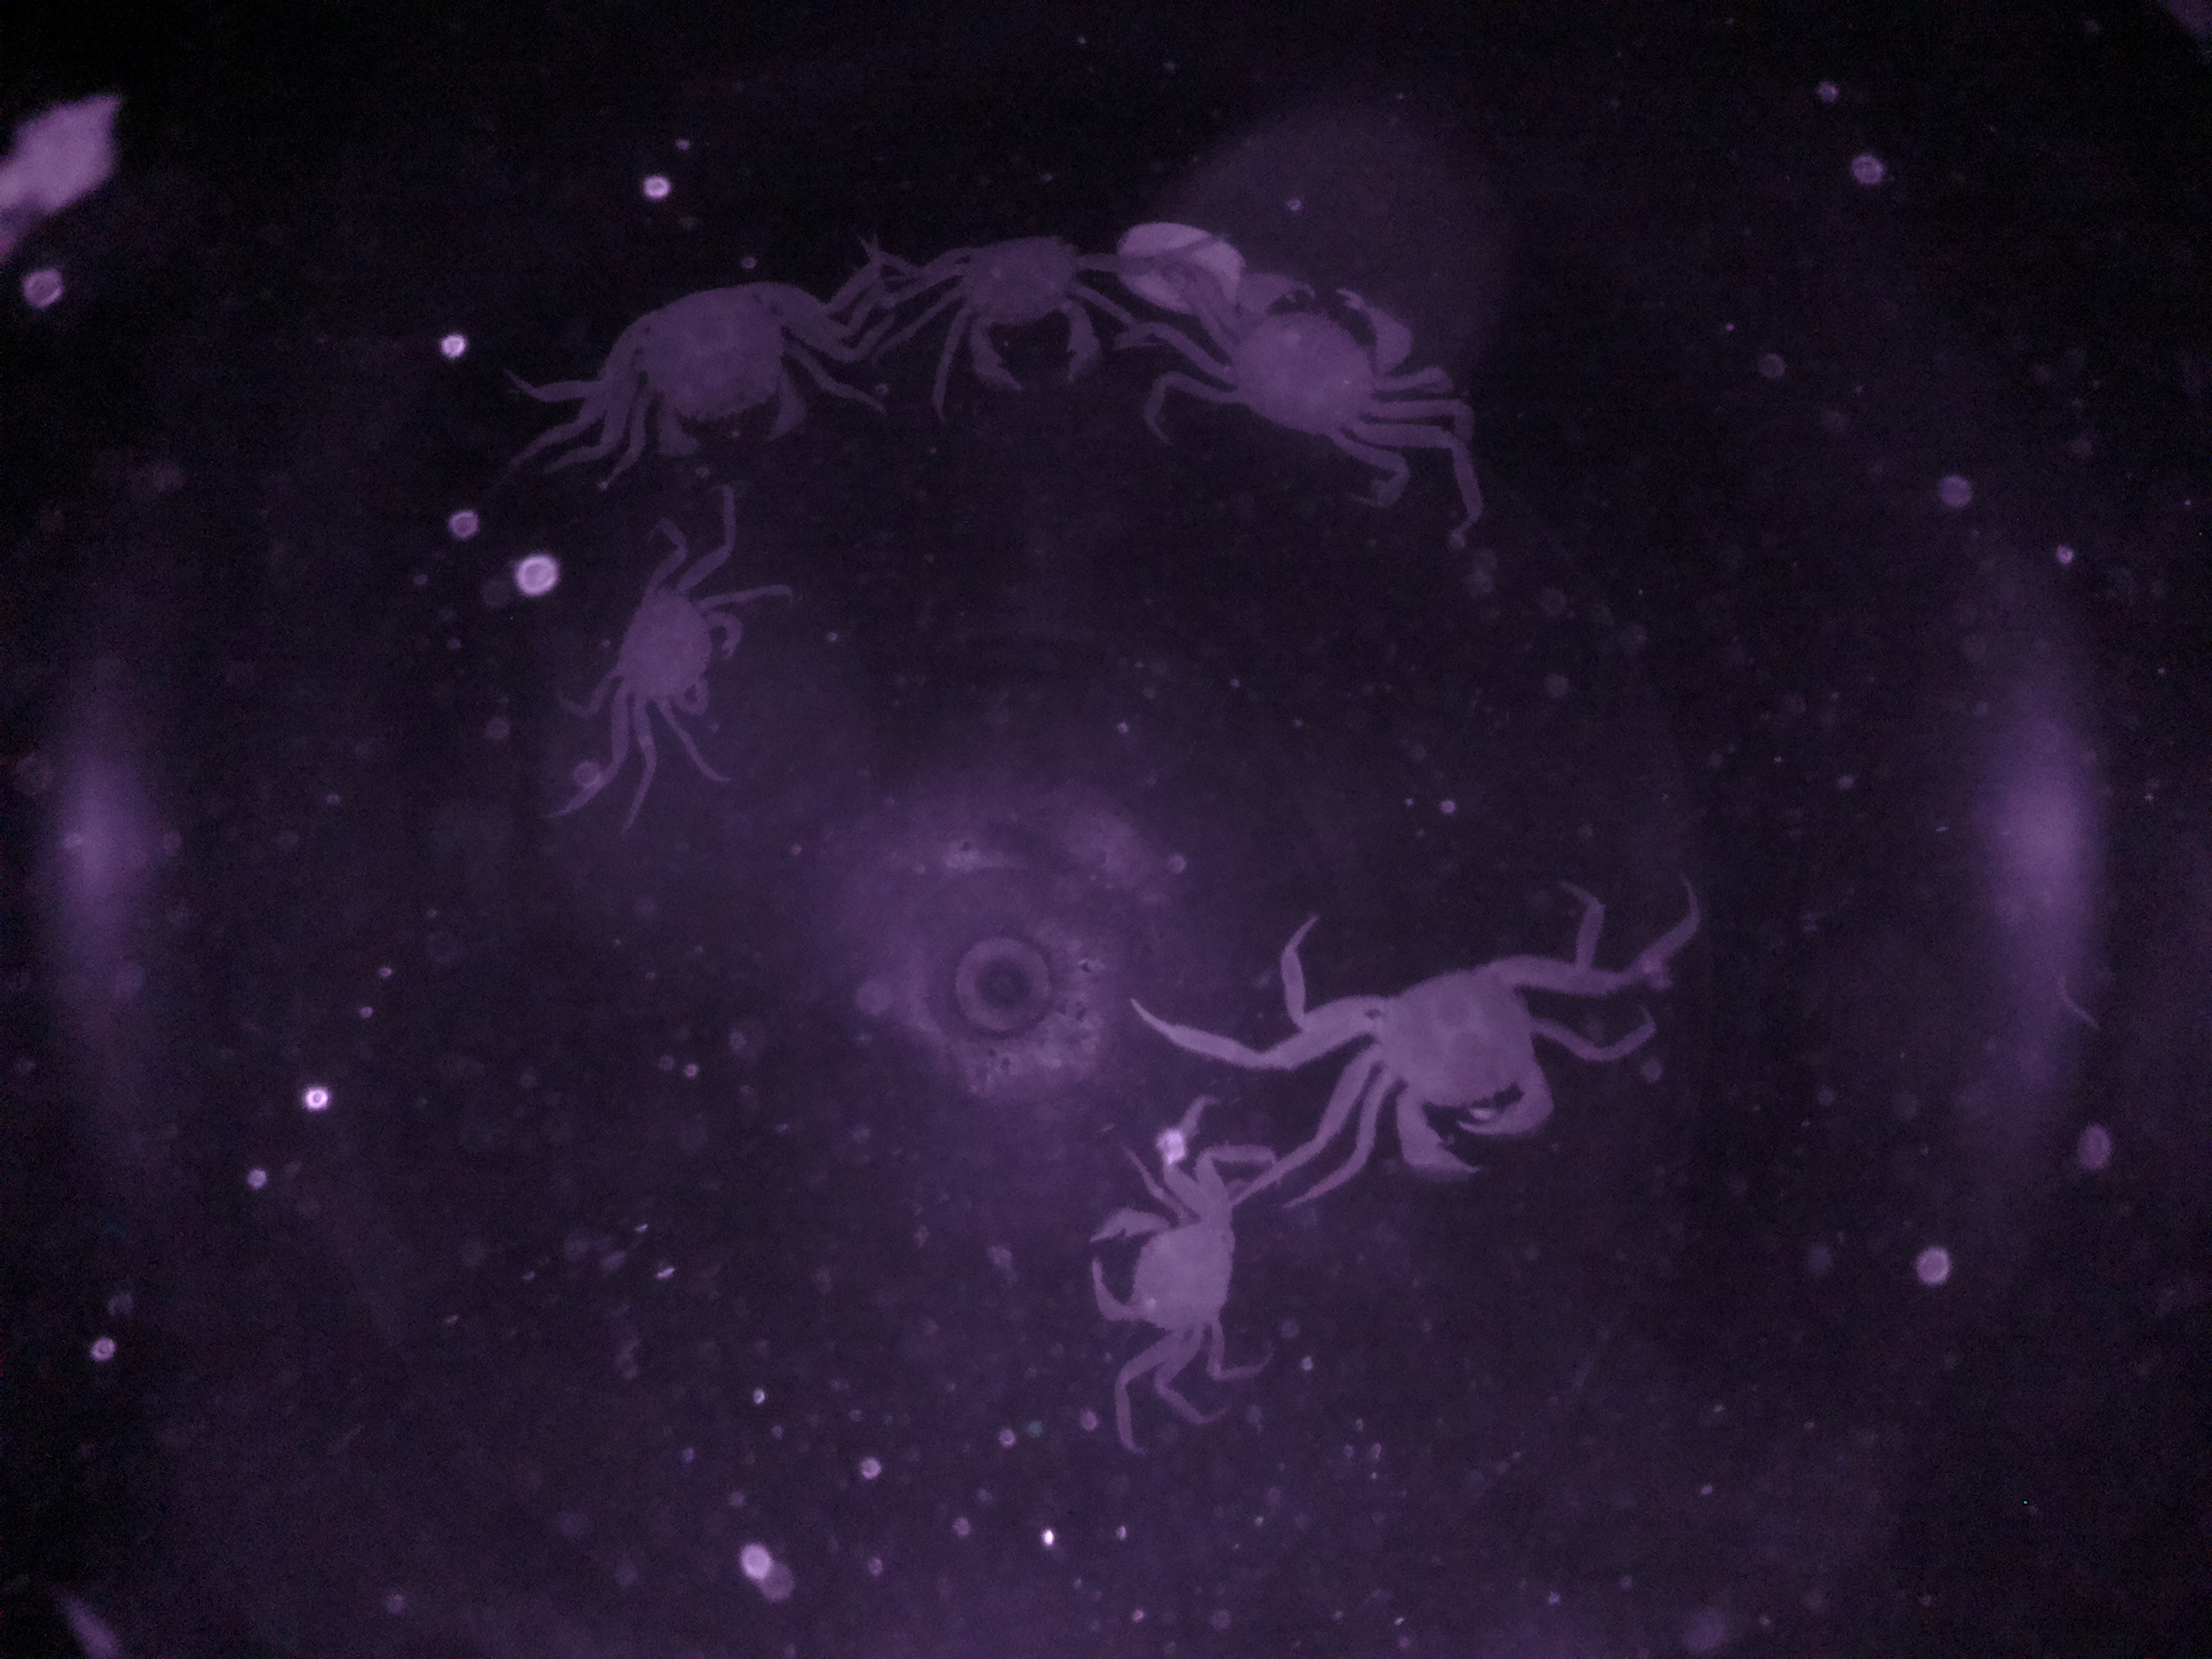Crab: (1268, 927, 1587, 1188), (580, 256, 862, 477), (1179, 258, 1447, 474), (920, 218, 1144, 413), (1071, 1161, 1259, 1375), (582, 549, 756, 748)
